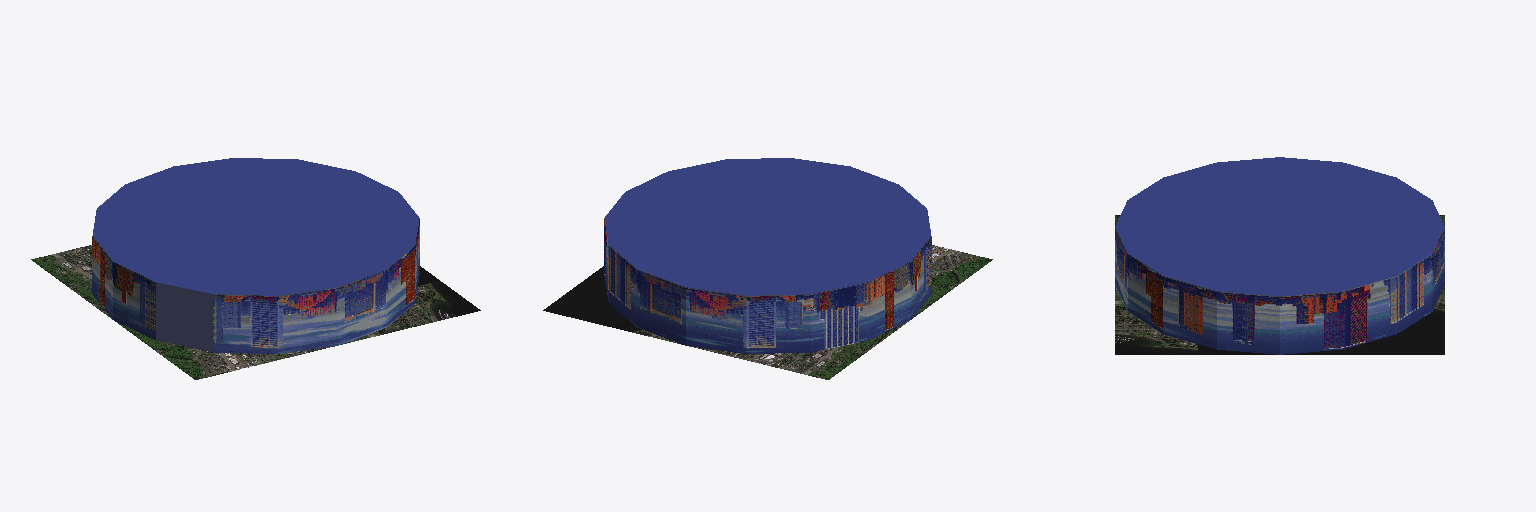
3 views of the same model, side by side, from view 1: azimuth 30°, elevation 25°; view 2: azimuth 150°, elevation 25°; view 3: azimuth 270°, elevation 25° (orthographic).
Visible parts, largest first — view 1: Rip_0001-SKP--Sky, Rip_0001-SKP--BG14, Rip_0001-SKP--BG13, Rip_0001-SKP--BG15, Rip_0001-SKP--BG12, Rip_0001-SKP--BG00, Rip_0001-SKP--BG11, Rip_0001-SKP--BGF25, Rip_0001-SKP--BGF24, Rip_0001-SKP--BGF00, Rip_0001-SKP--BG01, Rip_0001-SKP--BGF26 (+1 smaller); view 2: Rip_0001-SKP--Sky, Rip_0001-SKP--BG03, Rip_0001-SKP--BG04, Rip_0001-SKP--BG02, Rip_0001-SKP--BG05, Rip_0001-SKP--BG01, Rip_0001-SKP--BGF_Black, Rip_0001-SKP--BG06, Rip_0001-SKP--BGF00, Rip_0001-SKP--BGF25, Rip_0001-SKP--BG00, Rip_0001-SKP--BGF01; view 3: Rip_0001-SKP--Sky, Rip_0001-SKP--BG08, Rip_0001-SKP--BG09, Rip_0001-SKP--BG07, Rip_0001-SKP--BG10, Rip_0001-SKP--BGF_Black, Rip_0001-SKP--BG06, Rip_0001-SKP--BG11, Rip_0001-SKP--BGF24, Rip_0001-SKP--BG05, Rip_0001-SKP--BG12, Rip_0001-SKP--BGF23.
Part boxes in pixels (x1,y1,x2,y2): Rip_0001-SKP--Sky: (93,158,418,295); Rip_0001-SKP--BG14: (213,294,277,353); Rip_0001-SKP--BG13: (278,287,337,353); Rip_0001-SKP--BG15: (156,282,212,351); Rip_0001-SKP--BG12: (338,269,386,345); Rip_0001-SKP--BG00: (113,262,155,339); Rip_0001-SKP--BG11: (387,246,414,326); Rip_0001-SKP--BGF25: (155,345,230,379); Rip_0001-SKP--BGF24: (416,281,480,318); Rip_0001-SKP--BGF00: (31,251,91,289); Rip_0001-SKP--BG01: (92,236,112,318); Rip_0001-SKP--BGF26: (202,350,265,371); Rip_0001-SKP--Sky: (605,158,930,295); Rip_0001-SKP--BG03: (746,294,810,353); Rip_0001-SKP--BG04: (686,287,745,353); Rip_0001-SKP--BG02: (811,282,867,351); Rip_0001-SKP--BG05: (637,269,685,345); Rip_0001-SKP--BG01: (868,262,910,339); Rip_0001-SKP--BGF_Black: (543,266,625,327); Rip_0001-SKP--BG06: (609,246,636,326); Rip_0001-SKP--BGF00: (793,345,868,379); Rip_0001-SKP--BGF25: (932,251,992,289); Rip_0001-SKP--BG00: (911,236,931,318); Rip_0001-SKP--BGF01: (758,350,821,371); Rip_0001-SKP--Sky: (1115,157,1444,296); Rip_0001-SKP--BG08: (1280,291,1342,354); Rip_0001-SKP--BG09: (1217,291,1279,354); Rip_0001-SKP--BG07: (1343,276,1396,348); Rip_0001-SKP--BG10: (1163,276,1216,348); Rip_0001-SKP--BGF_Black: (1285,320,1444,354); Rip_0001-SKP--BG06: (1397,254,1431,333); Rip_0001-SKP--BG11: (1128,254,1162,333); Rip_0001-SKP--BGF24: (1115,337,1197,354); Rip_0001-SKP--BG05: (1432,228,1444,311); Rip_0001-SKP--BG12: (1115,228,1127,311); Rip_0001-SKP--BGF23: (1115,320,1170,336).
Bounding box in the file's own units: 88000 × 17168 × 88000.
47 materials, 46 textured.